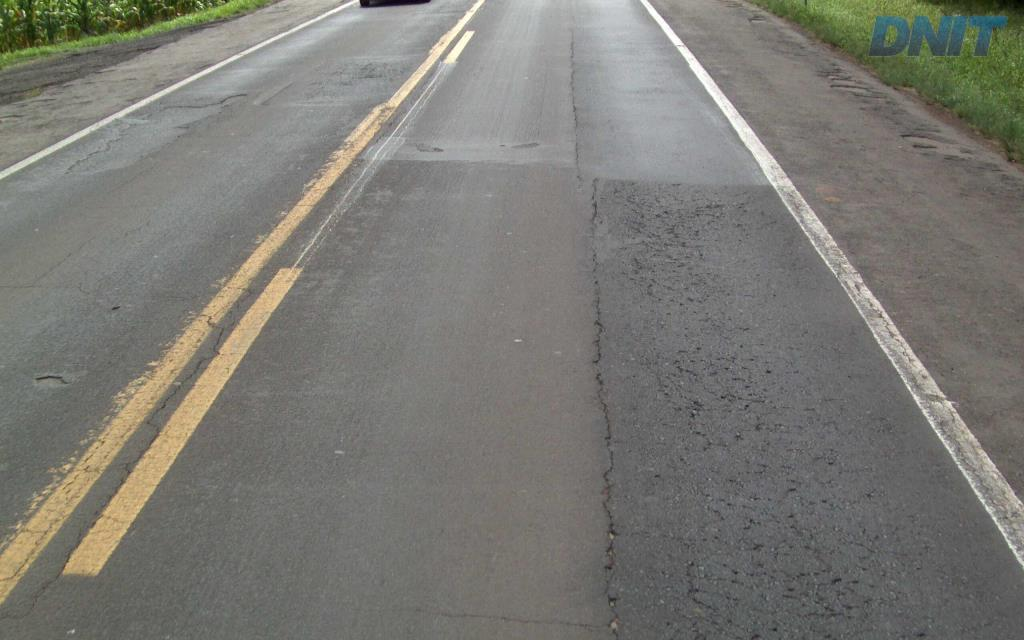crack: (603, 539, 621, 627), (591, 292, 607, 367)
